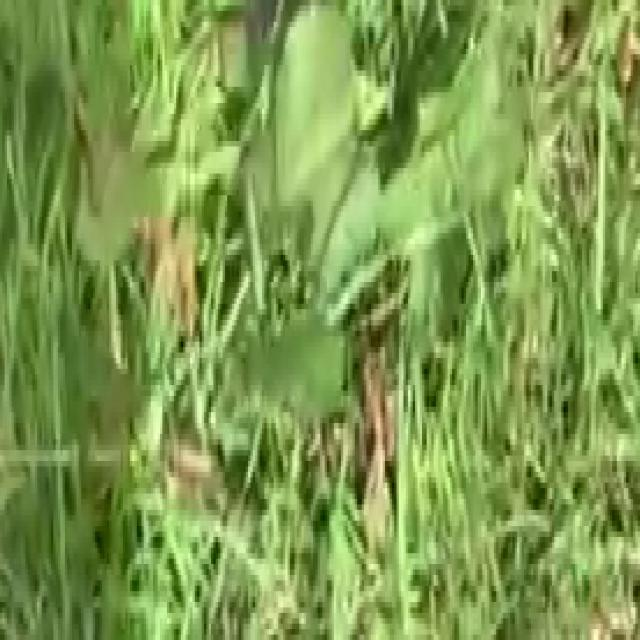organic waste: (88, 0, 579, 515)
